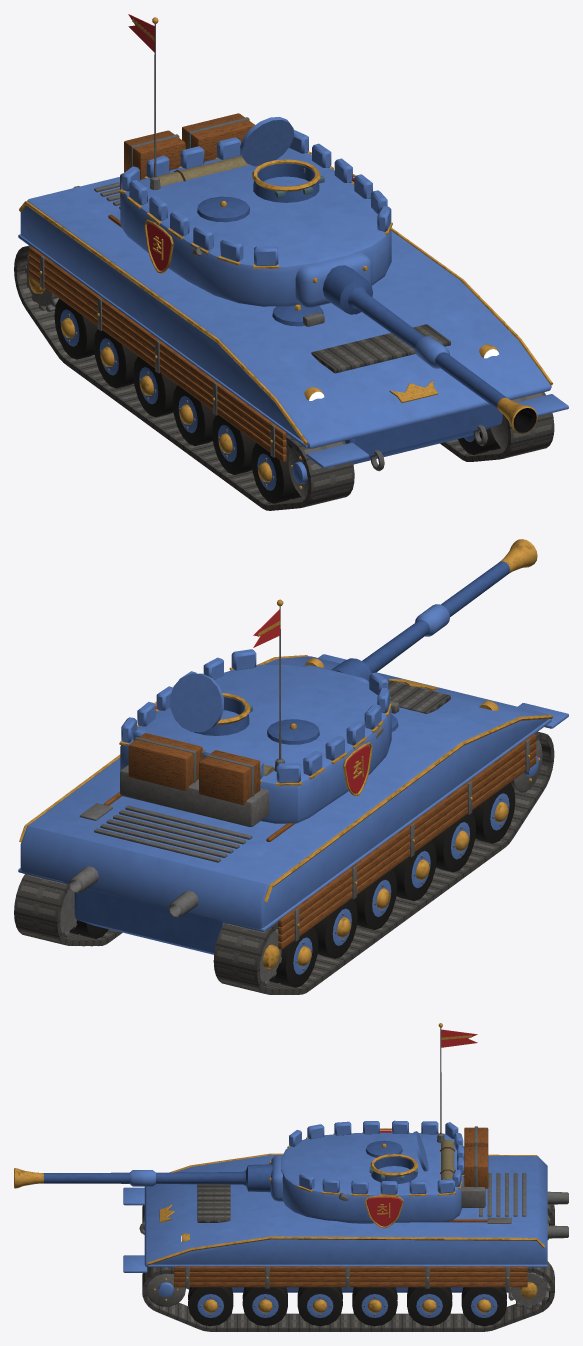
The model's file is tank.glb.
3 views of the same model, one above another, from view 1: azimuth 30°, elevation 25°; view 2: azimuth 150°, elevation 25°; view 3: azimuth 270°, elevation 25° (orthographic). The views are drawn at different scales.
Visible parts, largest first — view 1: hull, turret, track_r, barrel, track_l, wheel_r5, wheel_r0, wheel_r4, wheel_r3, wheel_r1, wheel_r2, antenna (+2 smaller); view 2: hull, turret, track_r, barrel, track_l, wheel_r0, wheel_r5, wheel_r1, wheel_r3, wheel_r4, wheel_r2, antenna (+3 smaller); view 3: hull, turret, track_l, barrel, wheel_l2, wheel_l0, wheel_l5, wheel_l3, wheel_l1, wheel_l4, sprocket_l, idler_l (+1 smaller).
Boxes of the visible parts, x1=… form: hull: x1=18, y1=177, x2=568, y2=471; turret: x1=119, y1=113, x2=392, y2=306; track_r: x1=14, y1=245, x2=354, y2=510; barrel: x1=295, y1=252, x2=537, y2=433; track_l: x1=440, y1=392, x2=554, y2=461; wheel_r5: x1=251, y1=442, x2=301, y2=503; wheel_r0: x1=54, y1=298, x2=97, y2=359; wheel_r4: x1=212, y1=414, x2=255, y2=474; wheel_r3: x1=172, y1=385, x2=215, y2=446; wheel_r1: x1=94, y1=329, x2=137, y2=388; wheel_r2: x1=133, y1=356, x2=176, y2=417; antenna: x1=128, y1=14, x2=160, y2=189; hull: x1=18, y1=654, x2=568, y2=954; turret: x1=119, y1=649, x2=391, y2=826; track_r: x1=213, y1=731, x2=554, y2=994; barrel: x1=303, y1=539, x2=537, y2=684; track_l: x1=14, y1=874, x2=122, y2=946; wheel_r0: x1=269, y1=926, x2=318, y2=987; wheel_r5: x1=472, y1=782, x2=515, y2=843; wheel_r1: x1=314, y1=898, x2=357, y2=958; wheel_r3: x1=392, y1=840, x2=436, y2=901; wheel_r4: x1=432, y1=813, x2=475, y2=872; wheel_r2: x1=354, y1=869, x2=397, y2=929; antenna: x1=253, y1=599, x2=284, y2=771; hull: x1=123, y1=1153, x2=568, y2=1292; turret: x1=281, y1=1120, x2=488, y2=1228; track_l: x1=142, y1=1261, x2=554, y2=1331; barrel: x1=14, y1=1155, x2=283, y2=1201; wheel_l2: x1=352, y1=1287, x2=397, y2=1326; wheel_l0: x1=461, y1=1287, x2=506, y2=1326; wheel_l5: x1=188, y1=1287, x2=233, y2=1326; wheel_l3: x1=297, y1=1287, x2=342, y2=1326; wheel_l1: x1=407, y1=1287, x2=452, y2=1326; wheel_l4: x1=242, y1=1287, x2=287, y2=1326; sprocket_l: x1=506, y1=1272, x2=550, y2=1309; idler_l: x1=146, y1=1274, x2=185, y2=1306.
Size of the model in its own units: 3.13 by 4.08 by 8.32.
16 materials, 9 textured.
